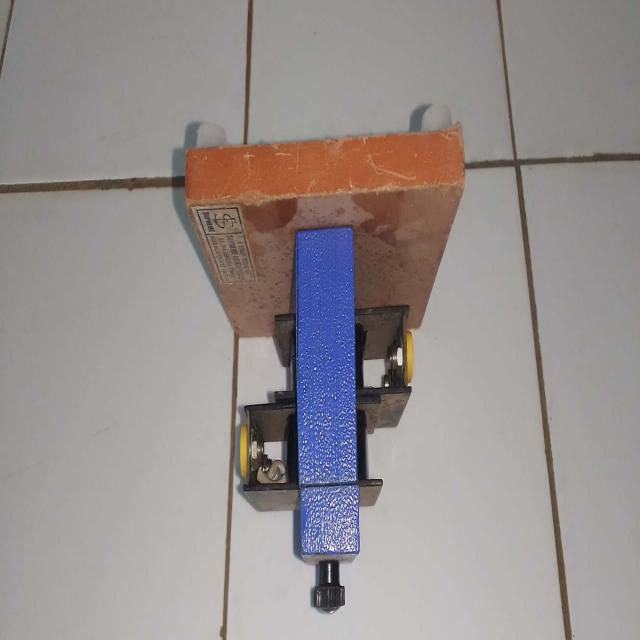Transformer Demo: (164, 106, 478, 620)
